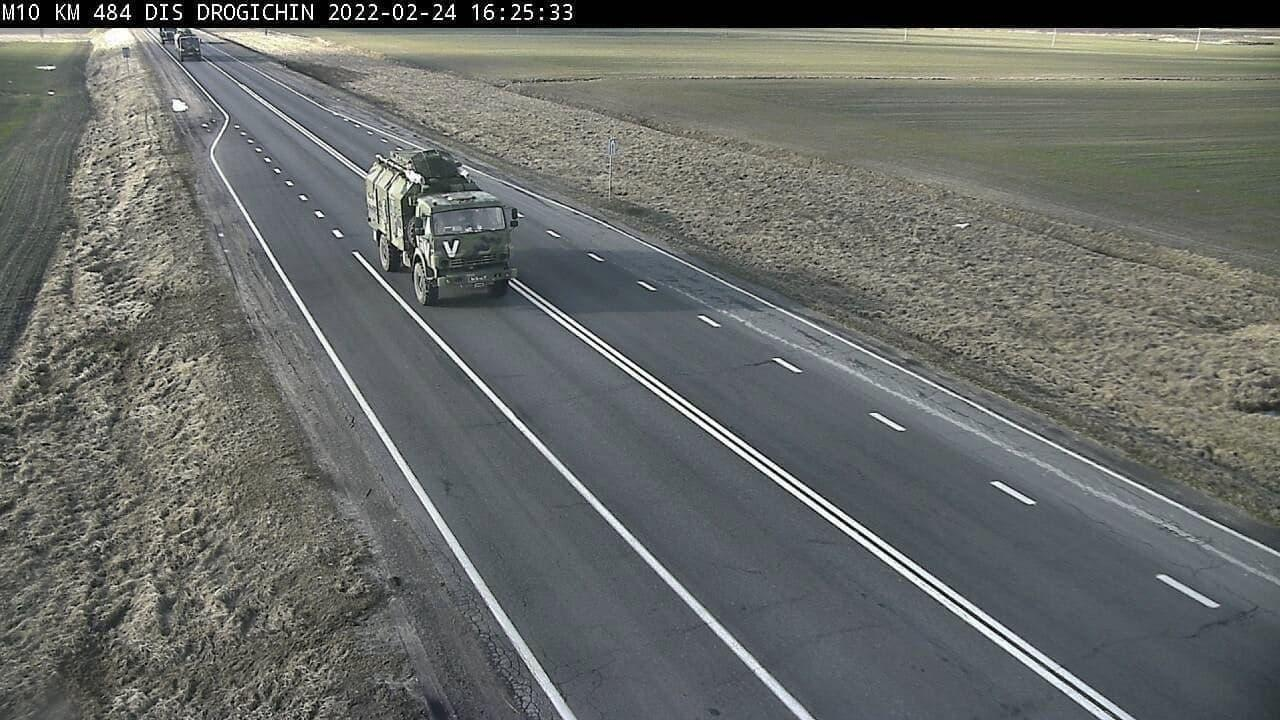truck: (363, 145, 522, 309), (171, 32, 212, 64)
